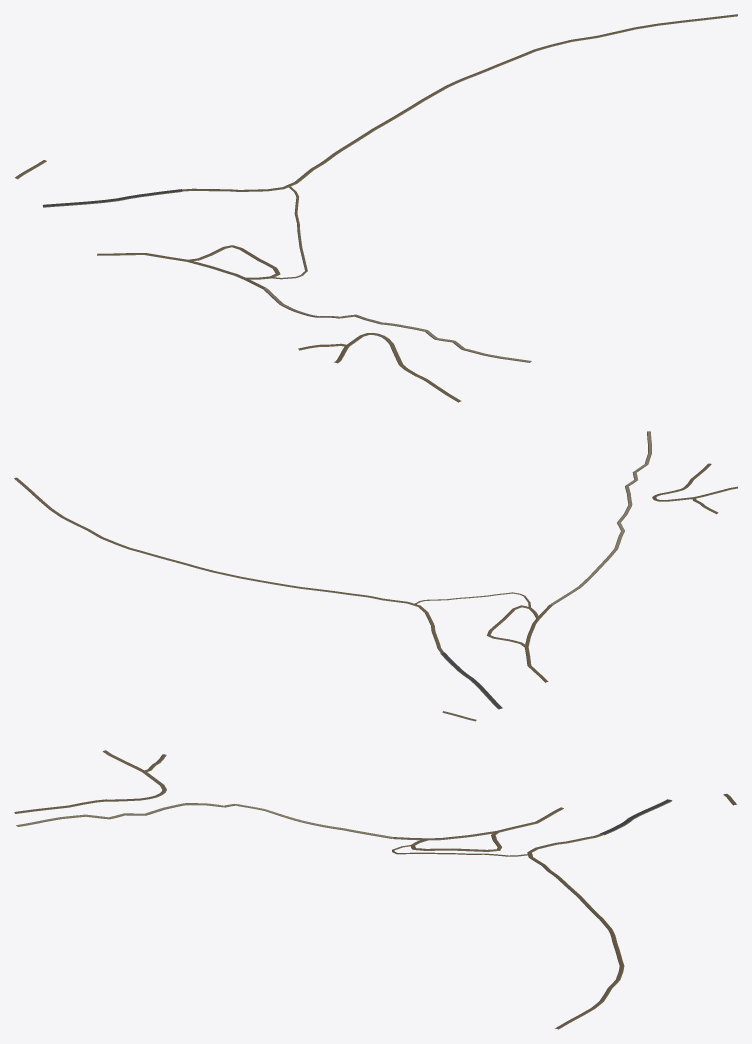
The picture shows the model from 3 angles, top to bottom: view 1: azimuth 30°, elevation 25°; view 2: azimuth 150°, elevation 25°; view 3: azimuth 270°, elevation 25°; orthographic projection. The views are drawn at different scales.
Parts seen in each view (by area): view 1: roads; view 2: roads; view 3: roads.
Part boxes in pixels (left/top/right/bottom): roads: left=15, top=14, right=737, bottom=402; roads: left=14, top=431, right=737, bottom=721; roads: left=14, top=750, right=736, bottom=1029.
Size of the model in its own units: 809 by 105 by 807.
